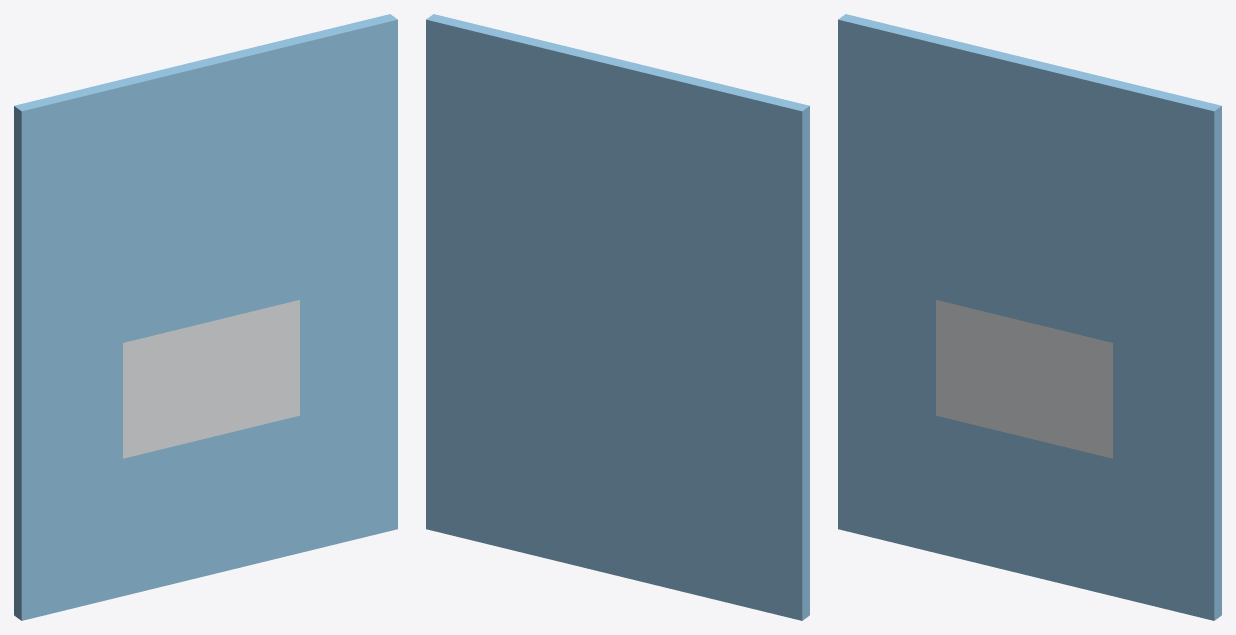
The model's file is CM_Accessory_Apron_Cleaner.fbx.
3 renders of one model, left to right at view 1: azimuth 30°, elevation 25°; view 2: azimuth 150°, elevation 25°; view 3: azimuth 330°, elevation 25°, orthographic.
Visible parts, largest first — view 1: Handle; view 2: Handle; view 3: Handle.
Part boxes in pixels (<box>): Handle: <box>14,14,397,620</box>; Handle: <box>426,14,809,620</box>; Handle: <box>838,14,1221,620</box>.
Size of the model in its own units: 1.7 by 0.072 by 2.2.
Materials: 1 (1 with a texture image).
